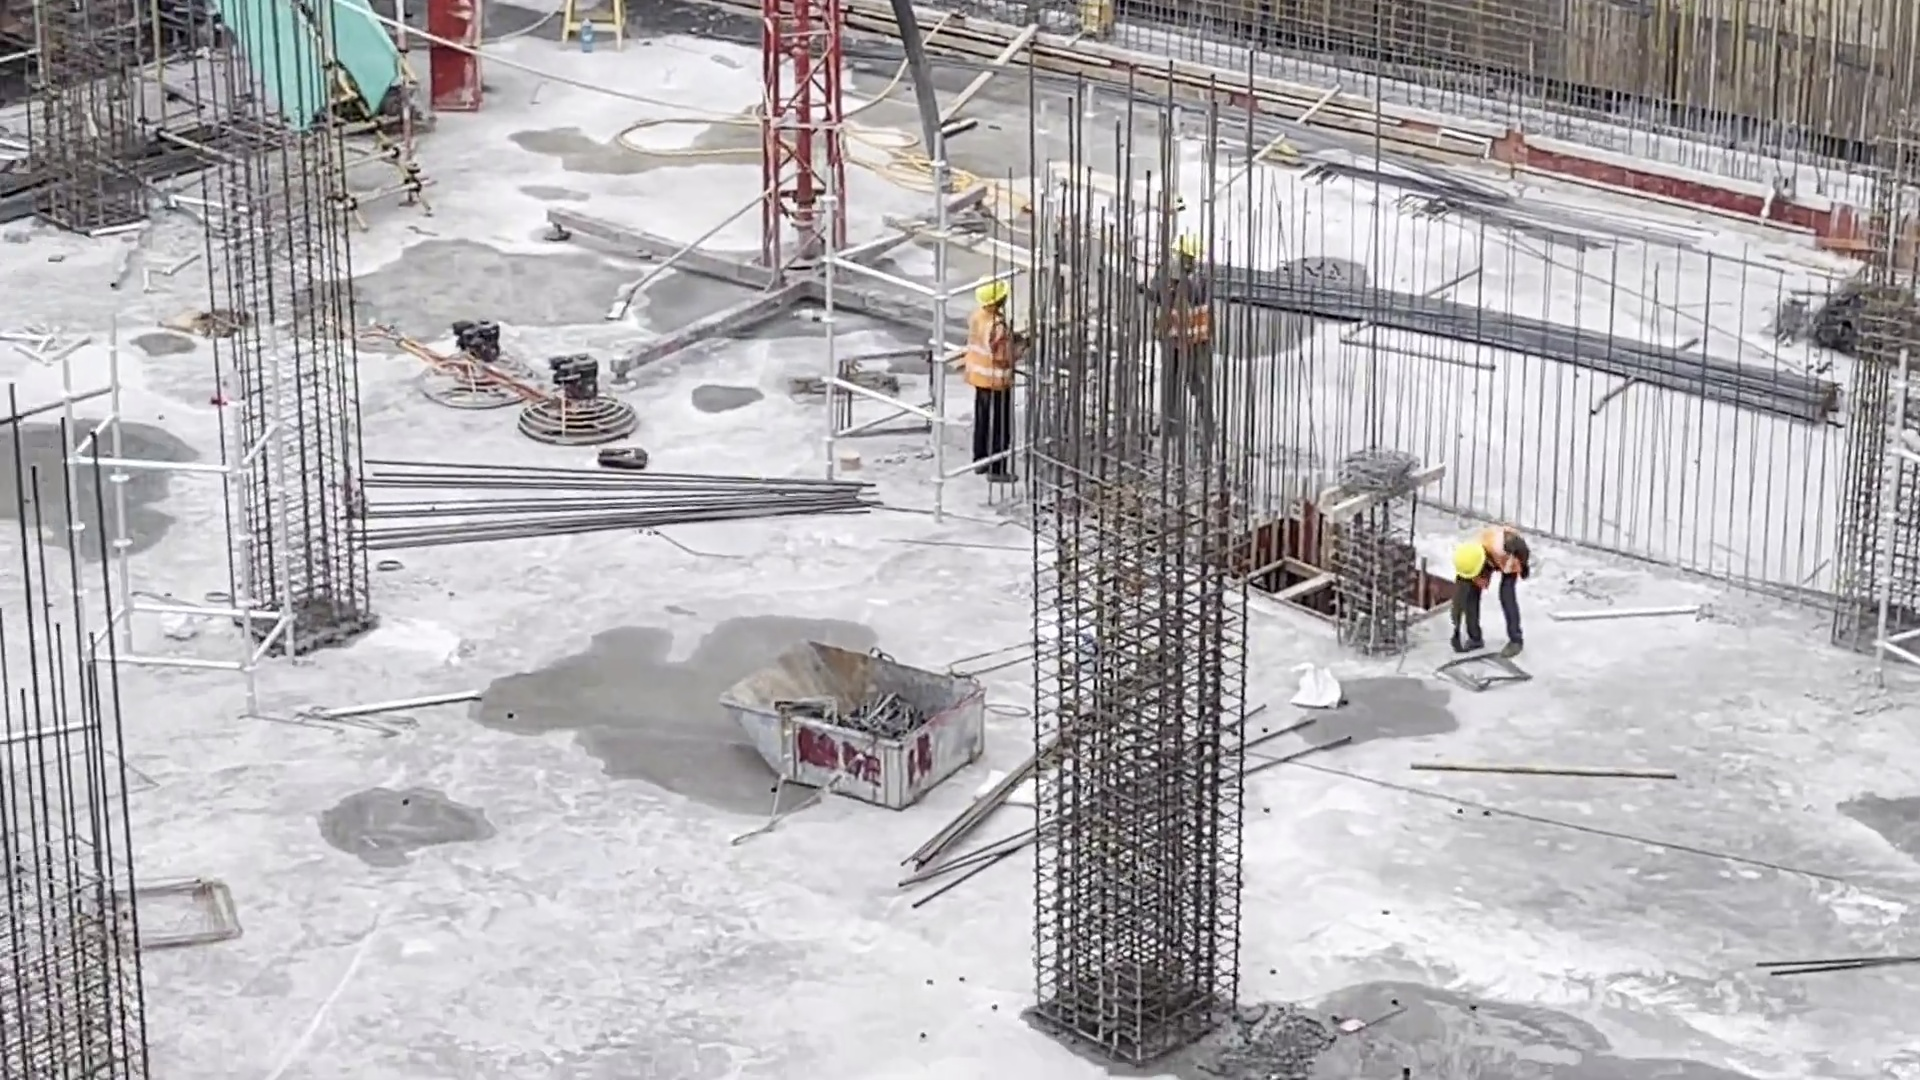helmet: (1451, 541, 1485, 582), (970, 276, 1013, 309)
hopper: (719, 645, 991, 808)
person: (1146, 237, 1229, 441), (959, 272, 1026, 492), (1441, 508, 1539, 652)
rebar: (1254, 237, 1851, 417), (364, 450, 896, 540)
vest: (963, 312, 1017, 394), (1159, 280, 1217, 345), (1473, 532, 1537, 578)
